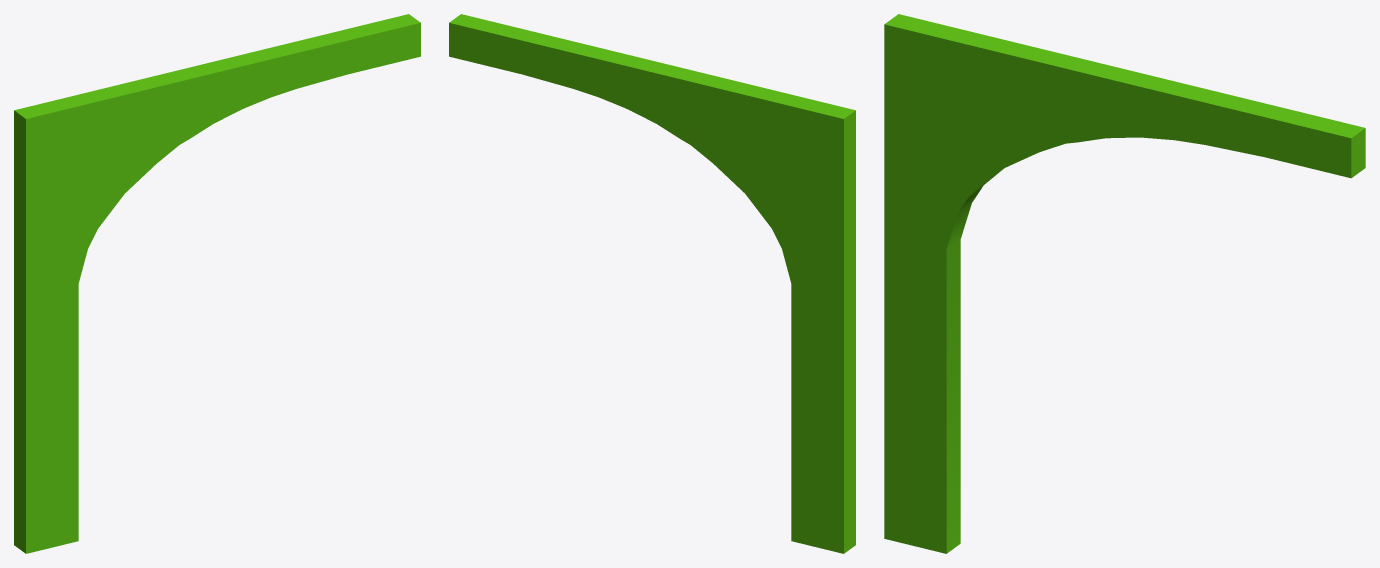
The model's file is Unity HD Render Pipeline (Metallic Standard).fbx.
The picture shows the model from 3 angles, left to right: view 1: azimuth 30°, elevation 25°; view 2: azimuth 150°, elevation 25°; view 3: azimuth 330°, elevation 25°; orthographic projection. The views are drawn at different scales.
Visible parts, largest first — view 1: ArciInterior; view 2: ArciInterior; view 3: ArciInterior.
Boxes of the visible parts, x1=… form: ArciInterior: x1=14, y1=14, x2=420, y2=553; ArciInterior: x1=449, y1=14, x2=855, y2=553; ArciInterior: x1=884, y1=14, x2=1365, y2=553.
Bounding box in the file's own units: 1.9 × 2 × 0.1.
